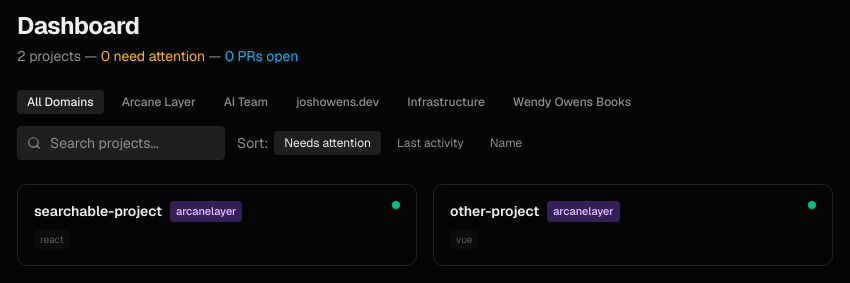
Test: AC5: Filters and search work on live data › filters projects by search query
Check: the text "searchable-project" is shown, box [34,201,162,221]
In the field with placeholder "Search projects...": [121, 143] box [17,126,225,160], type "searchable"
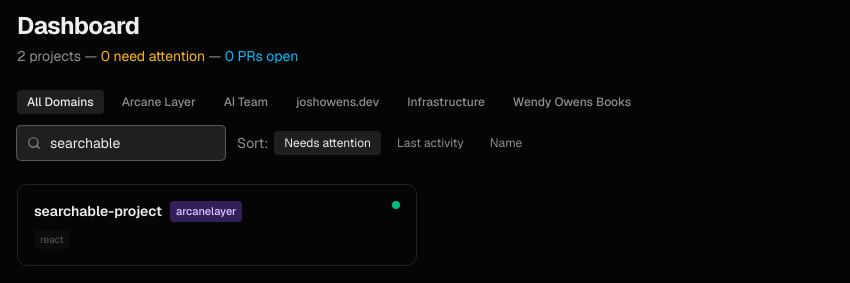
Check: the text "searchable-project" is shown, box [34,201,162,221]
Check: the link "other-project" is gone
